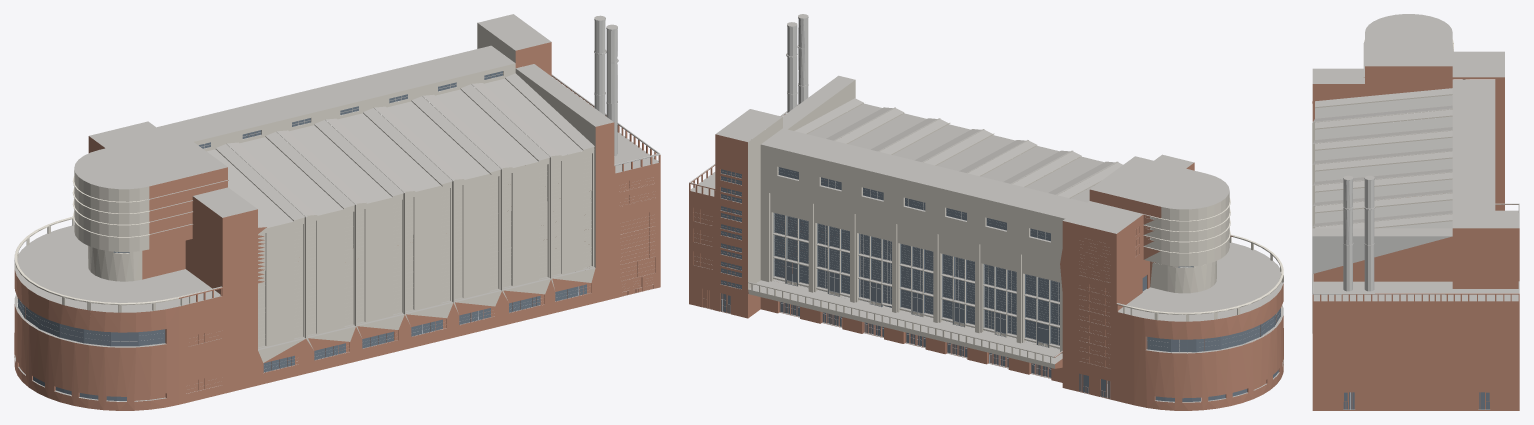
Rendered from redflag45_v2.glb.
3 renders of one model, left to right at view 1: azimuth 30°, elevation 25°; view 2: azimuth 150°, elevation 25°; view 3: azimuth 270°, elevation 25°, orthographic. The views are drawn at different scales.
Visible parts, largest first — view 1: roof, cream, brick, glass, chimney; view 2: roof, cream, brick, glass, chimney; view 3: roof, brick, chimney, cream, glass.
Part boxes in pixels (x1,y1,x2,y2): roof: (14,14,659,401); cream: (14,23,595,362); brick: (14,42,660,410); glass: (18,71,586,400); chimney: (558,18,660,165); roof: (689,14,1283,402); cream: (748,80,1283,368); brick: (689,114,1283,410); glass: (721,167,1280,401); chimney: (702,17,808,174); roof: (1312,14,1519,409); brick: (1312,66,1519,410); chimney: (1312,178,1452,294); cream: (1312,39,1518,333); glass: (1343,392,1489,409).
Size of the model in its own units: 240 by 100 by 85.11.
